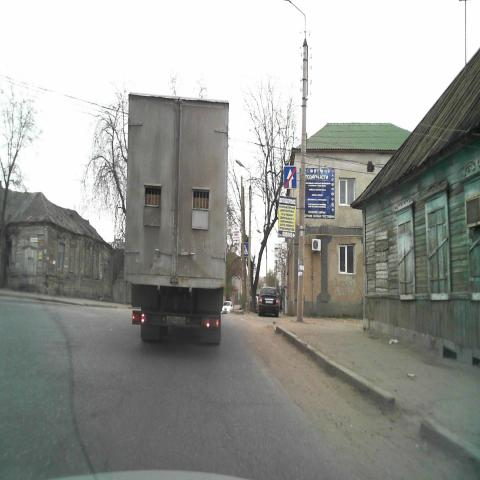5_19_1: (241, 242, 248, 256)
5_6: (284, 166, 296, 188)
